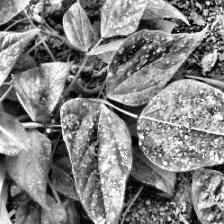Bean Rust: (104, 24, 212, 107), (63, 96, 131, 224), (135, 80, 224, 170), (0, 30, 26, 116)
